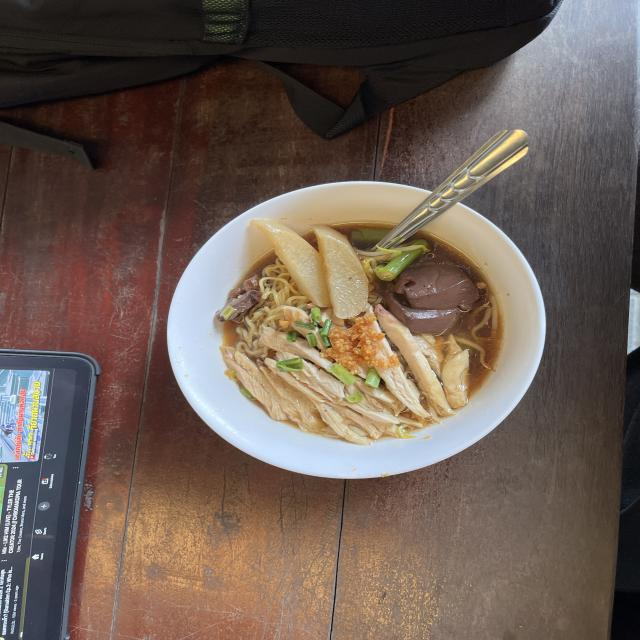boiled_chicken_blood_jelly: (393, 266, 477, 328)
chicken_shredded: (239, 307, 458, 427)
daikon_radish: (248, 214, 372, 315)
noodle: (206, 211, 514, 445)
